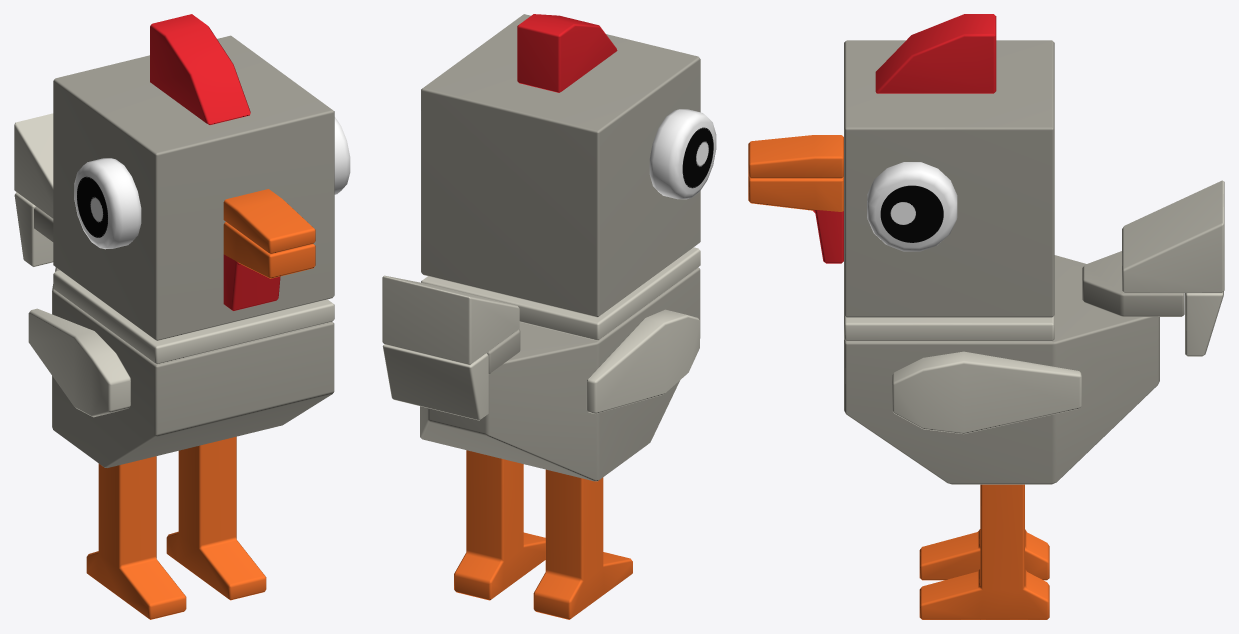
Rendered from tavuk_puzzle.fbx.
The picture shows the model from 3 angles, left to right: view 1: azimuth 30°, elevation 25°; view 2: azimuth 150°, elevation 25°; view 3: azimuth 270°, elevation 25°; orthographic projection.
Visible parts, largest first — view 1: chicken_6, chicken_2, chicken_1, chicken_5, chicken_3, chicken_4; view 2: chicken_6, chicken_2, chicken_1, chicken_4, chicken_5, chicken_3; view 3: chicken_6, chicken_2, chicken_4, chicken_1, chicken_5, chicken_3.
Boxes of the visible parts, bbox=[...] form: chicken_6: bbox=[53, 14, 350, 340]; chicken_2: bbox=[52, 267, 334, 467]; chicken_1: bbox=[86, 436, 266, 619]; chicken_5: bbox=[28, 308, 130, 417]; chicken_3: bbox=[53, 270, 334, 364]; chicken_4: bbox=[14, 113, 53, 266]; chicken_6: bbox=[421, 14, 716, 317]; chicken_2: bbox=[420, 267, 700, 481]; chicken_1: bbox=[454, 450, 632, 619]; chicken_4: bbox=[382, 275, 520, 420]; chicken_5: bbox=[586, 309, 699, 413]; chicken_3: bbox=[421, 247, 700, 340]; chicken_6: bbox=[748, 14, 1054, 317]; chicken_2: bbox=[844, 255, 1159, 484]; chicken_4: bbox=[1082, 180, 1224, 356]; chicken_1: bbox=[919, 484, 1049, 619]; chicken_5: bbox=[892, 351, 1081, 434]; chicken_3: bbox=[844, 315, 1054, 341].
Bounding box in the file's own units: 1.06 × 2.38 × 1.81.
